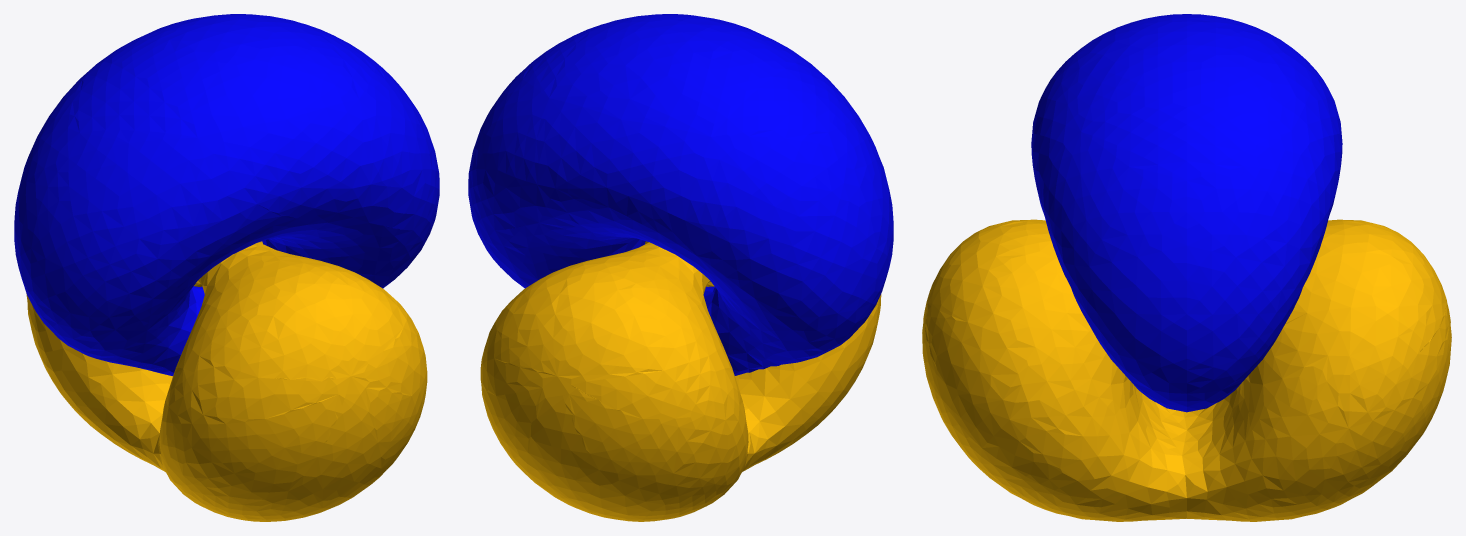
3 views of the same model, side by side, from view 1: azimuth 30°, elevation 25°; view 2: azimuth 150°, elevation 25°; view 3: azimuth 270°, elevation 25° (orthographic). The views are drawn at different scales.
Size of the model in its own units: 18.03 by 19.72 by 20.09.
